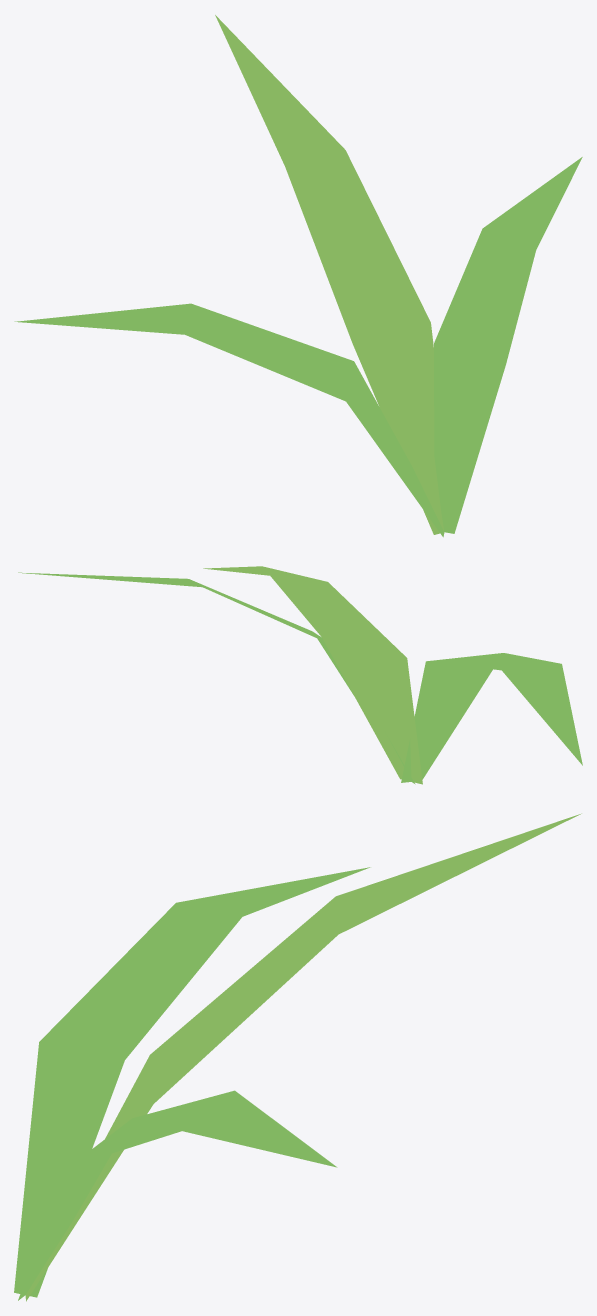
The model's file is Plant_e_OneS_03.fbx.
3 renders of one model, top to bottom at view 1: azimuth 30°, elevation 25°; view 2: azimuth 150°, elevation 25°; view 3: azimuth 270°, elevation 25°, orthographic. The views are drawn at different scales.
Parts seen in each view (by area): view 1: Plant_e_OneS_03; view 2: Plant_e_OneS_03; view 3: Plant_e_OneS_03.
Part boxes in pixels (bbox=[...]): Plant_e_OneS_03: bbox=[14, 15, 582, 537]; Plant_e_OneS_03: bbox=[18, 566, 582, 784]; Plant_e_OneS_03: bbox=[14, 813, 581, 1301].
Size of the model in its own units: 0.6634 by 0.4169 by 0.4533.
